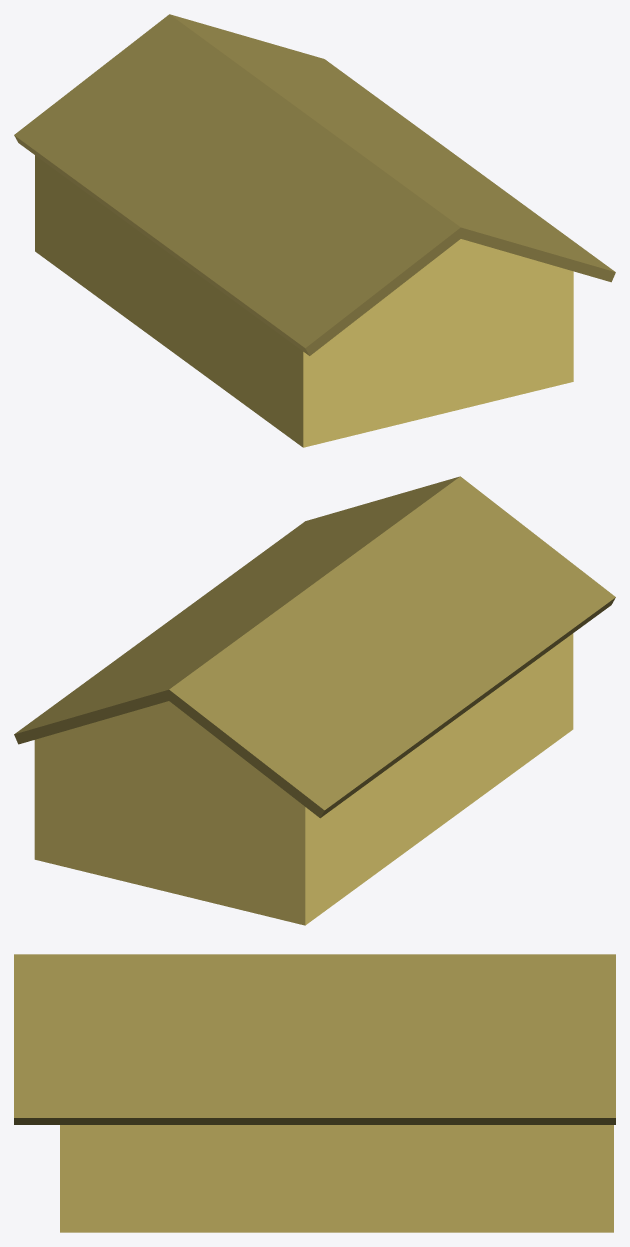
File: result.glb
3 views of the same model, one above another, from view 1: azimuth 30°, elevation 25°; view 2: azimuth 150°, elevation 25°; view 3: azimuth 270°, elevation 25° (orthographic). The views are drawn at different scales.
Visible parts, largest first — view 1: a64874b2-4570-4d07-b64d-4c421ddf7a85__undefined (×2), 039e18c0-08cf-400c-aa33-8e31224a23c3__undefined; view 2: a64874b2-4570-4d07-b64d-4c421ddf7a85__undefined (×2), 039e18c0-08cf-400c-aa33-8e31224a23c3__undefined; view 3: a64874b2-4570-4d07-b64d-4c421ddf7a85__undefined, 039e18c0-08cf-400c-aa33-8e31224a23c3__undefined.
Boxes of the visible parts, box(x1,y1,x2,y2) form: a64874b2-4570-4d07-b64d-4c421ddf7a85__undefined (×2): box(14, 14, 615, 355); 039e18c0-08cf-400c-aa33-8e31224a23c3__undefined: box(35, 155, 573, 447); a64874b2-4570-4d07-b64d-4c421ddf7a85__undefined (×2): box(14, 476, 615, 818); 039e18c0-08cf-400c-aa33-8e31224a23c3__undefined: box(34, 633, 573, 925); a64874b2-4570-4d07-b64d-4c421ddf7a85__undefined: box(14, 954, 615, 1124); 039e18c0-08cf-400c-aa33-8e31224a23c3__undefined: box(60, 1125, 613, 1232).
Bounding box in the file's own units: 803 × 503 × 1304.
